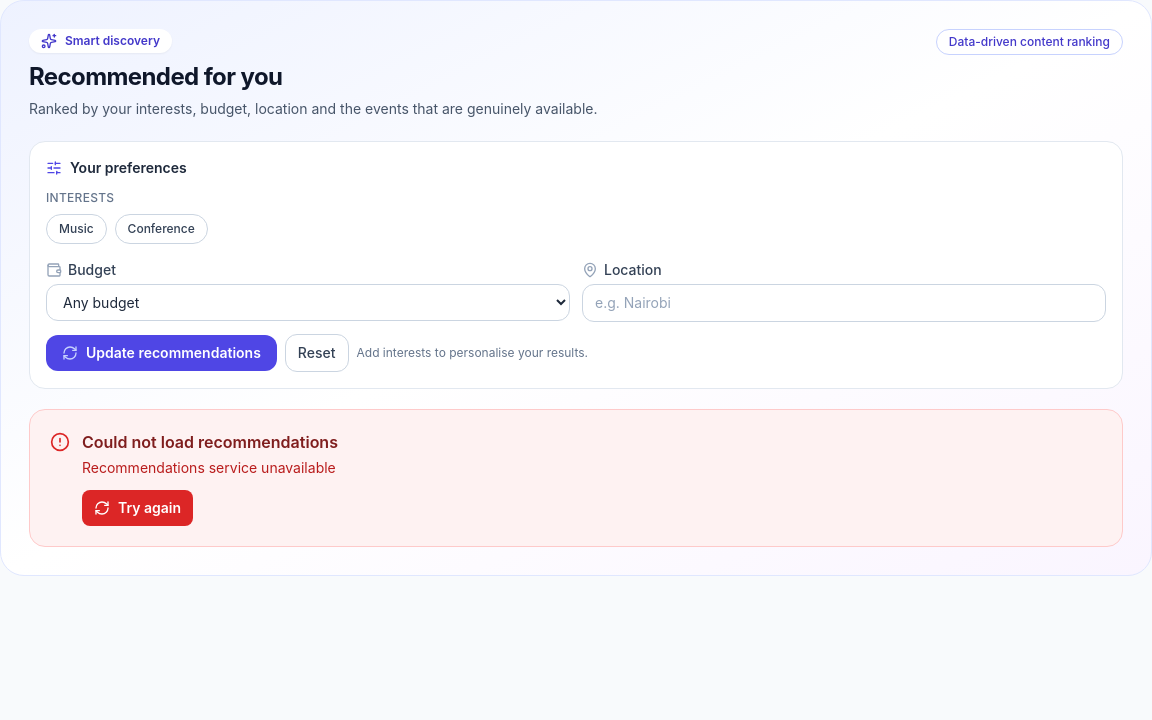
it: RecommendationSection › shows an error and retries without inventing events
The image size is (1152, 720).
Expected: the text "Recommendations service unavailable" is shown, [82,458,338,478]
What coordinates should you click on to do the following:
click the button "Try again"
I would click on:
 (138, 508)
Its box is [82,490,193,526].
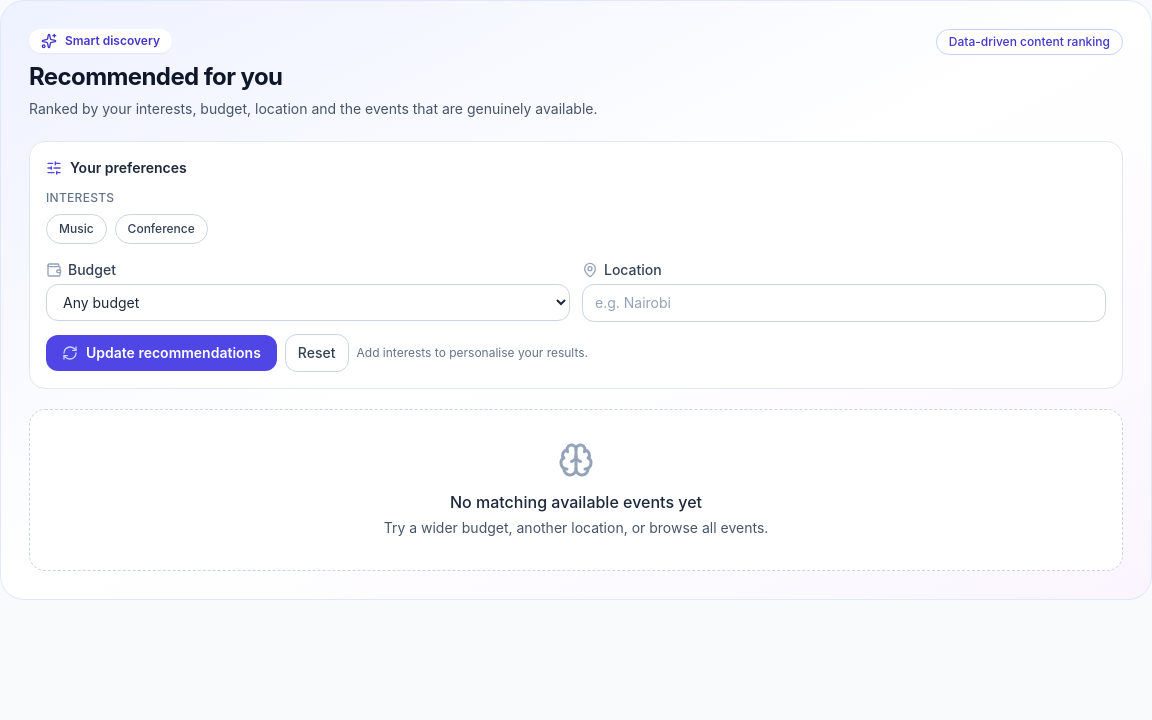
Expected: the text "Recommendations service unavailable" is gone
